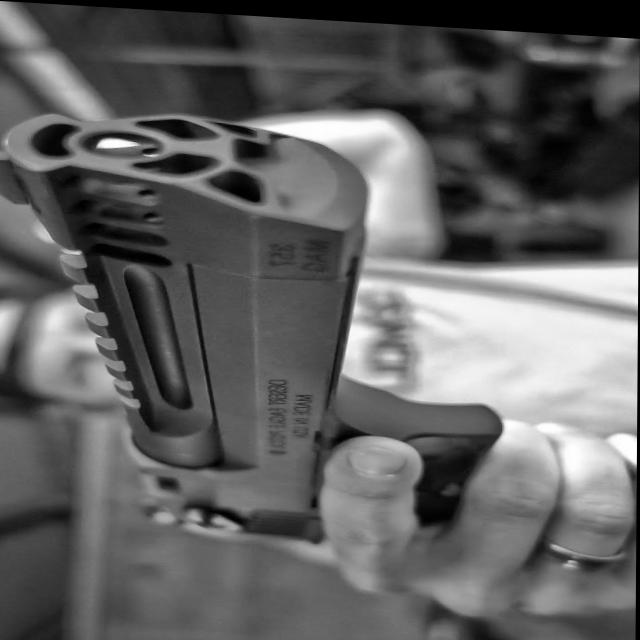handgun: (1, 73, 516, 559)
